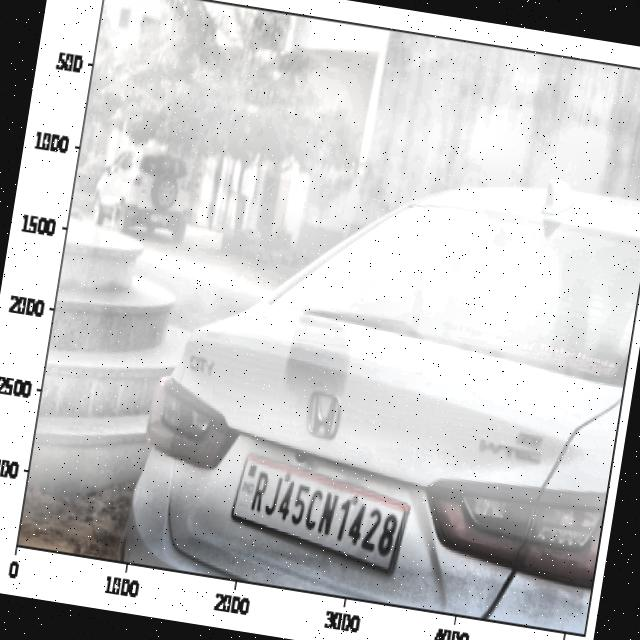license_plate: (240, 466, 405, 565)
